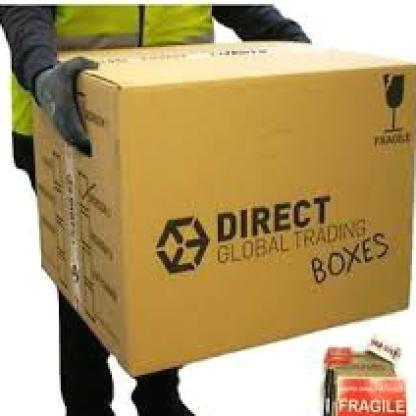box: (28, 49, 415, 383)
